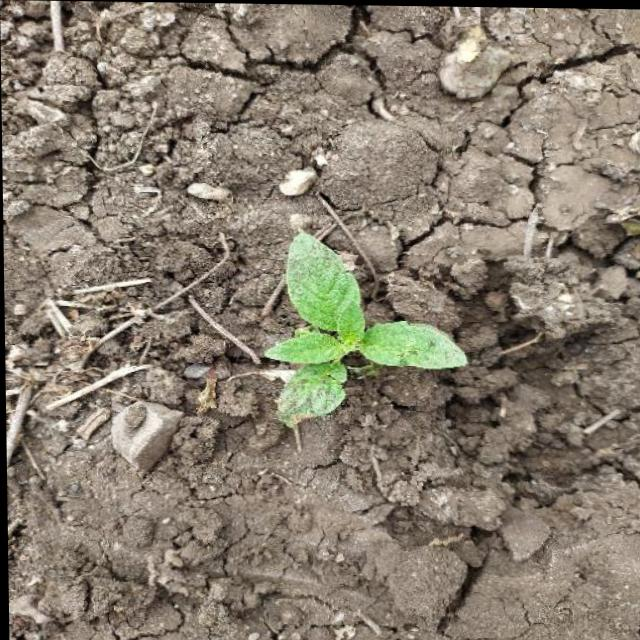crop: (263, 231, 469, 453)
